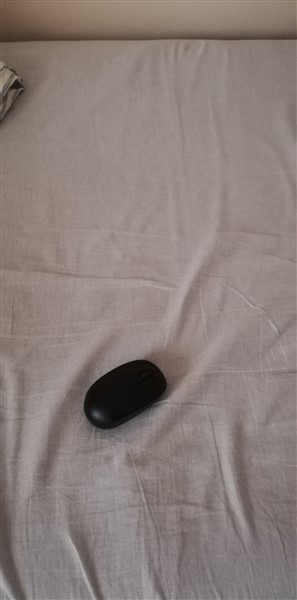mouse: (80, 357, 180, 431)
